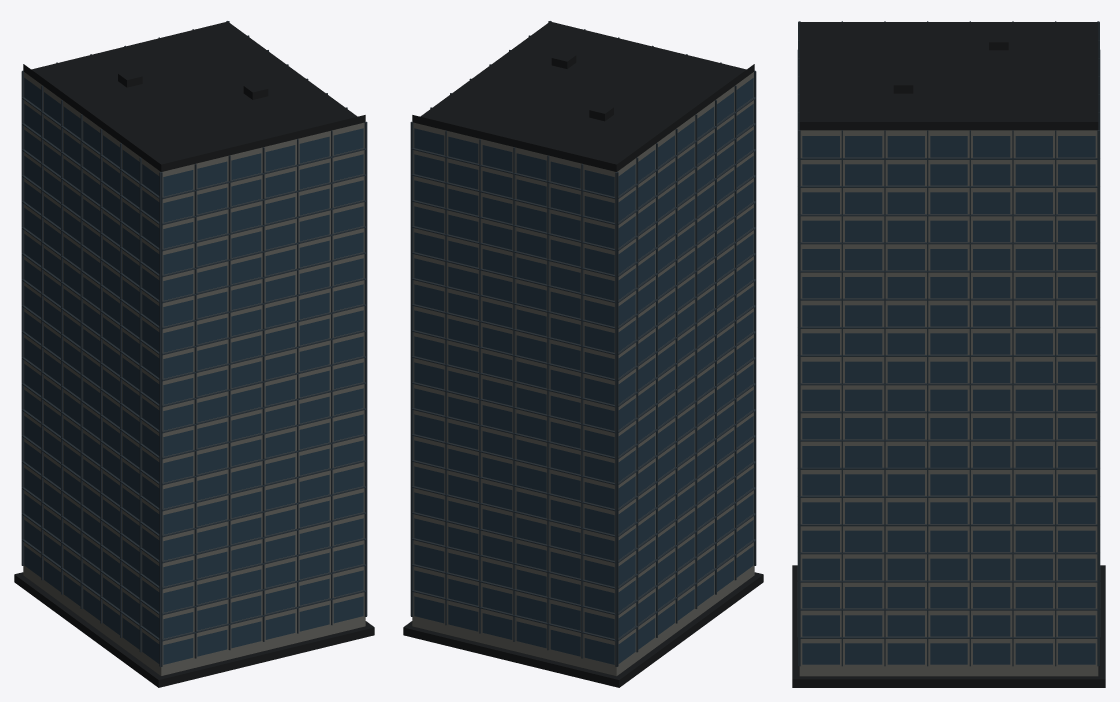
Rendered from office-06.glb.
3 renders of one model, left to right at view 1: azimuth 30°, elevation 25°; view 2: azimuth 150°, elevation 25°; view 3: azimuth 270°, elevation 25°, orthographic. The views are drawn at different scales.
Parts seen in each view (by area): view 1: glass-office; view 2: glass-office; view 3: glass-office.
Boxes of the visible parts, x1,y1,x2,y2 form: glass-office: (14,21,374,687); glass-office: (403,21,763,687); glass-office: (792,21,1105,687).
Size of the model in its own units: 33.05 by 77.01 by 38.27.
